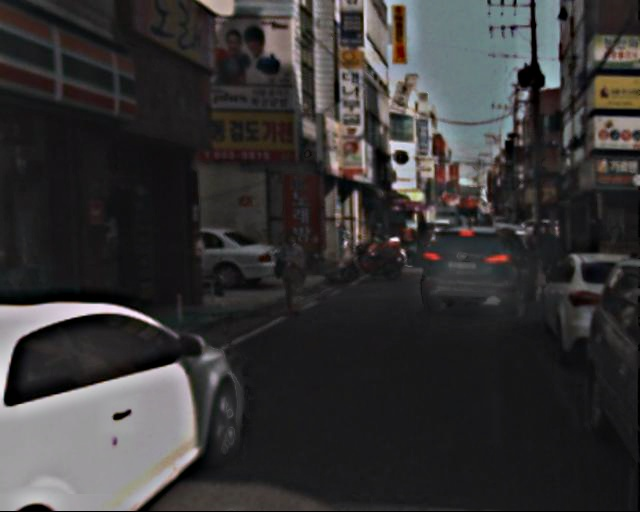person: (275, 228, 312, 319), (538, 224, 571, 305)
